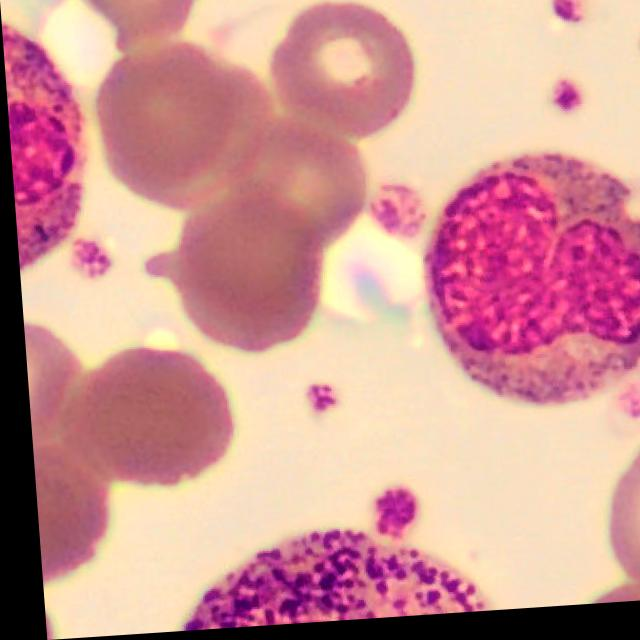Bastonete: (422, 163, 640, 409)
